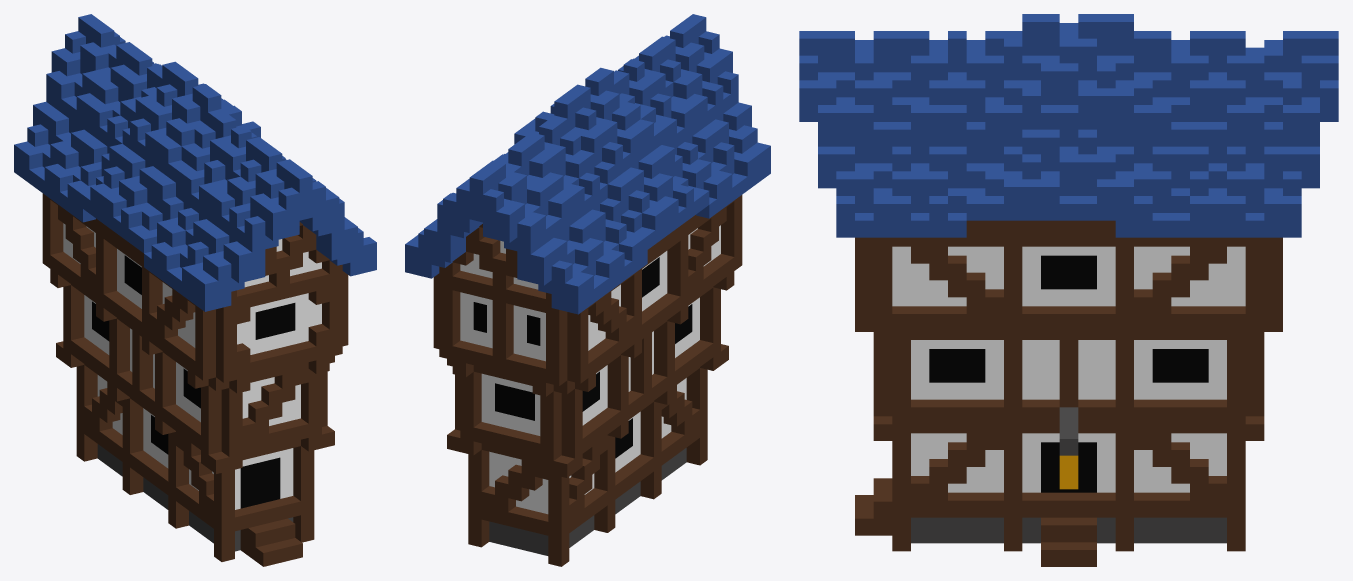
The model's file is house18.fbx.
3 renders of one model, left to right at view 1: azimuth 30°, elevation 25°; view 2: azimuth 150°, elevation 25°; view 3: azimuth 270°, elevation 25°, orthographic. The views are drawn at different scales.
Parts seen in each view (by area): view 1: house1-21; view 2: house1-21; view 3: house1-21.
Part boxes in pixels (bbox=[...]): house1-21: bbox=[14, 14, 376, 566]; house1-21: bbox=[405, 14, 770, 566]; house1-21: bbox=[799, 14, 1338, 566].
Size of the model in its own units: 1500 by 3000 by 2900.
